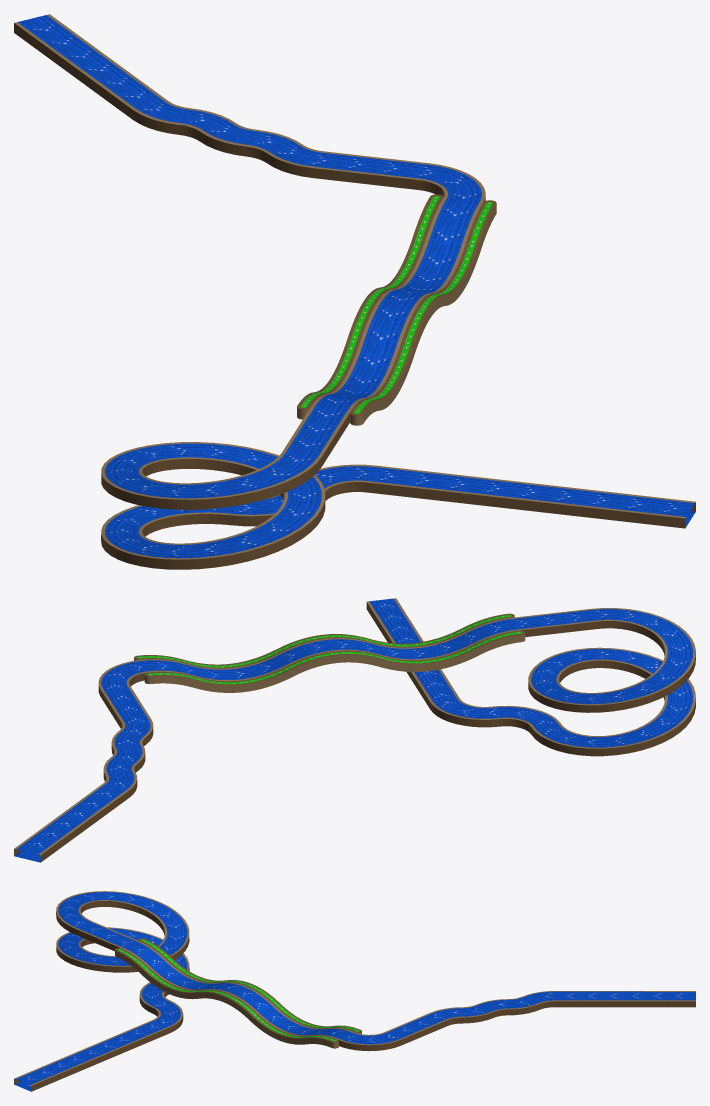
Rendered from ramp_28.FBX.
3 views of the same model, one above another, from view 1: azimuth 30°, elevation 25°; view 2: azimuth 150°, elevation 25°; view 3: azimuth 270°, elevation 25° (orthographic). The views are drawn at different scales.
Parts seen in each view (by area): view 1: ramp_28; view 2: ramp_28; view 3: ramp_28.
Part boxes in pixels (x1=…): ramp_28: x1=14, y1=14, x2=695, y2=569; ramp_28: x1=14, y1=598, x2=695, y2=862; ramp_28: x1=14, y1=891, x2=695, y2=1091.
Size of the model in its own units: 7141 by 1324 by 12513.
